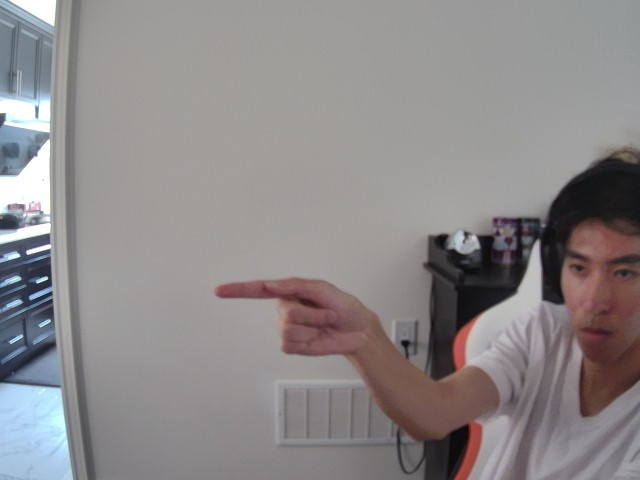G: (223, 264, 370, 367)
